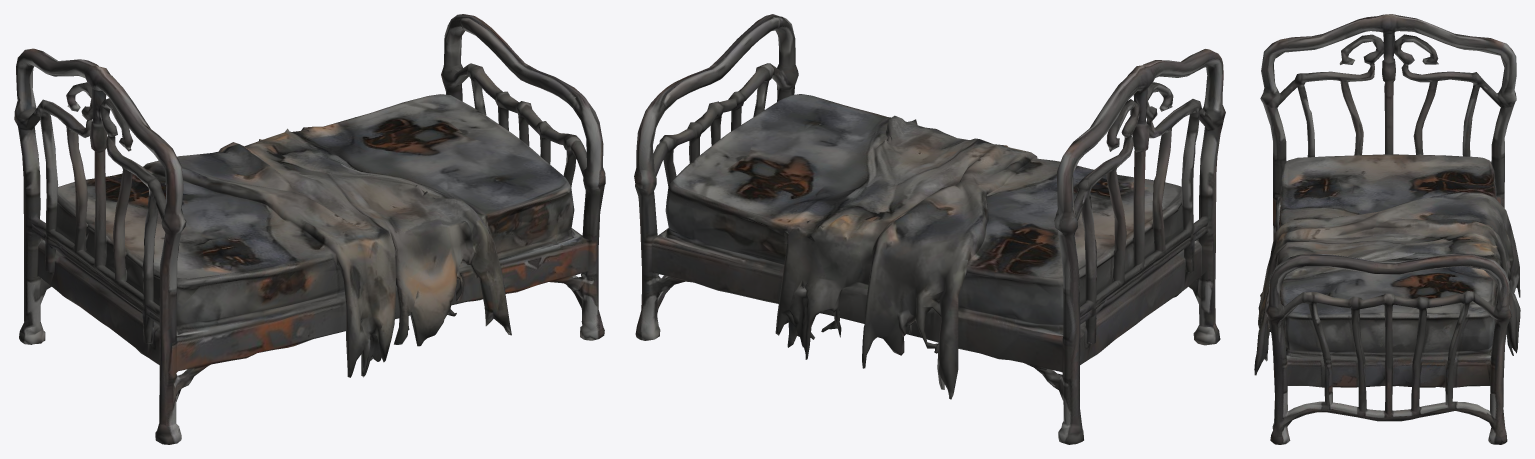
Rendered from bed.glb.
3 views of the same model, side by side, from view 1: azimuth 30°, elevation 25°; view 2: azimuth 150°, elevation 25°; view 3: azimuth 270°, elevation 25° (orthographic). The views are drawn at different scales.
Bounding box in the file's own units: 0.9987 × 0.6925 × 0.6424.
Materials: 1 (1 with a texture image).
